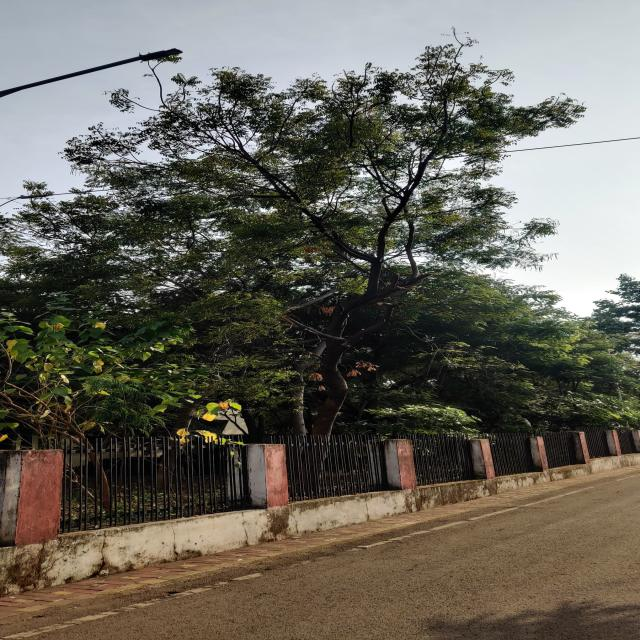Neem Tree: (150, 76, 496, 389)
